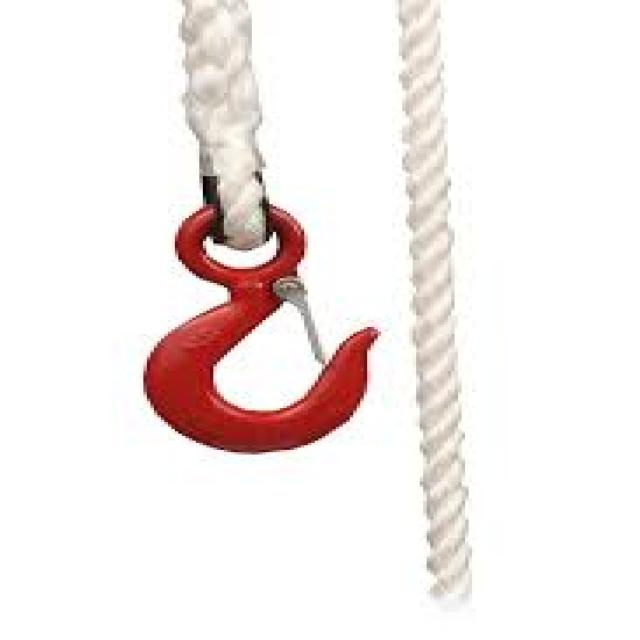rope: (399, 0, 471, 599), (184, 0, 270, 249)
